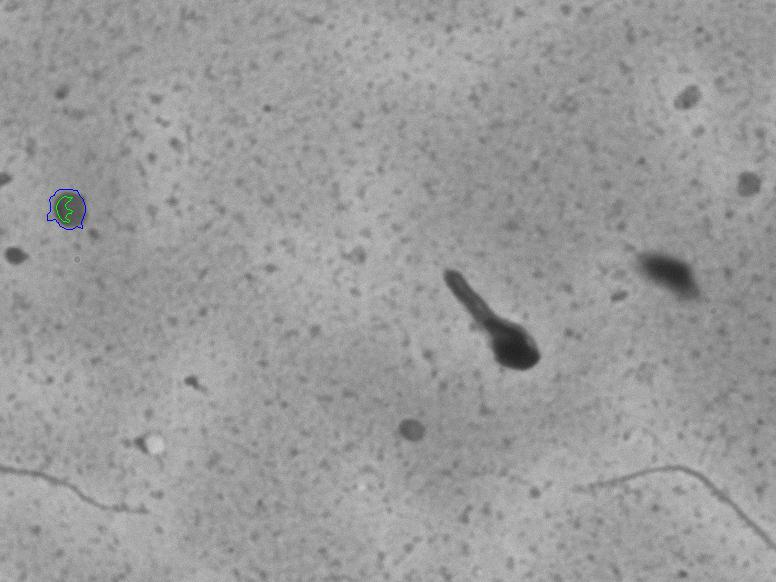Abnormal: (419, 235, 582, 408)
